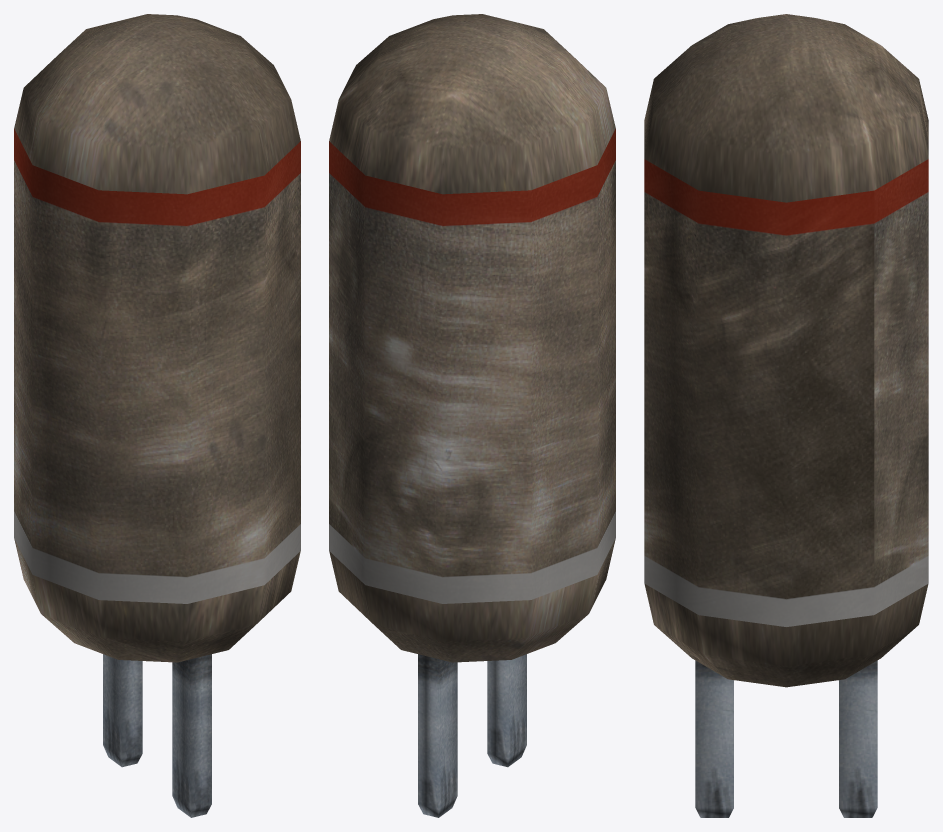
File: capacitor.fbx
3 views of the same model, side by side, from view 1: azimuth 30°, elevation 25°; view 2: azimuth 150°, elevation 25°; view 3: azimuth 270°, elevation 25° (orthographic). The views are drawn at different scales.
Visible parts, largest first — view 1: capacitor; view 2: capacitor; view 3: capacitor.
Part boxes in pixels (x1=…): capacitor: x1=14, y1=14, x2=300, y2=817; capacitor: x1=329, y1=14, x2=615, y2=817; capacitor: x1=644, y1=14, x2=928, y2=817.
Bounding box in the file's own units: 0.0655 × 0.1909 × 0.0623.
Materials: 1 (1 with a texture image).
